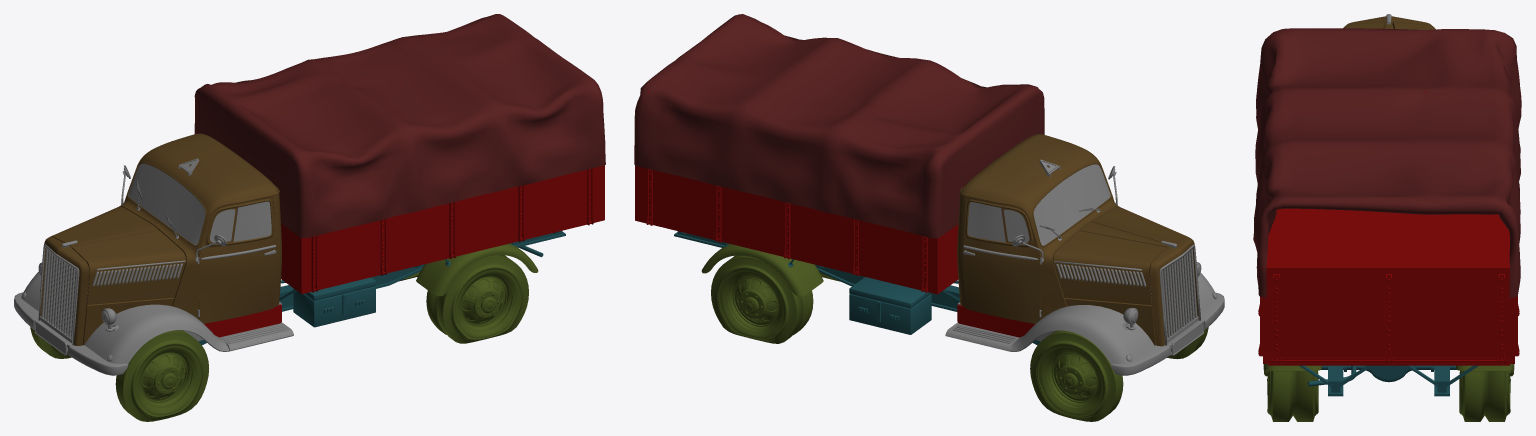
3 views of the same model, side by side, from view 1: azimuth 30°, elevation 25°; view 2: azimuth 150°, elevation 25°; view 3: azimuth 270°, elevation 25° (orthographic). The views are drawn at different scales.
Visible parts, largest first — view 1: blitz128Opel_low, blitz23Opel_low, blitz00Opel_low, blitz48Opel_low, blitz06Opel_low, blitz05Opel_low, glass_low, blitz12Opel_low, backwheel_low, blitz140Opel_low, blitz10Opel_low, blitz17Opel_low (+7 smaller); view 2: blitz128Opel_low, blitz23Opel_low, blitz00Opel_low, blitz48Opel_low, blitz06Opel_low, blitz05Opel_low, glass_low, blitz12Opel_low, backwheel_low, blitz141Opel_low, blitz10Opel_low, blitz17Opel_low (+7 smaller); view 3: blitz128Opel_low, blitz23Opel_low, blitz24Opel_low, backwheel_low, blitz17Opel_low, blitz44Opel_low, blitz102Opel_low, blitz04Opel_low, blitz61Opel_low, blitz64Opel_low, blitz63Opel_low, blitz48Opel_low (+5 smaller).
Part boxes in pixels (box(x1,y1,x2,y2)): blitz128Opel_low: box(194, 14, 605, 237); blitz23Opel_low: box(281, 166, 601, 287); blitz00Opel_low: box(40, 133, 281, 345); blitz48Opel_low: box(51, 206, 186, 304); blitz06Opel_low: box(198, 196, 276, 323); blitz05Opel_low: box(22, 271, 293, 363); glass_low: box(128, 163, 271, 245); blitz12Opel_low: box(30, 327, 208, 421); backwheel_low: box(399, 255, 528, 343); blitz140Opel_low: box(293, 277, 375, 327); blitz10Opel_low: box(41, 248, 77, 339); blitz17Opel_low: box(281, 165, 604, 293); blitz128Opel_low: box(634, 14, 1044, 238); blitz23Opel_low: box(638, 166, 958, 288); blitz00Opel_low: box(957, 134, 1198, 346); blitz48Opel_low: box(1053, 207, 1187, 305); blitz06Opel_low: box(963, 196, 1040, 323); blitz05Opel_low: box(945, 272, 1215, 363); glass_low: box(967, 164, 1110, 245); blitz12Opel_low: box(1030, 327, 1208, 421); backwheel_low: box(711, 255, 840, 343); blitz141Opel_low: box(849, 277, 931, 334); blitz10Opel_low: box(1161, 249, 1197, 339); blitz17Opel_low: box(635, 165, 958, 294); blitz128Opel_low: box(1253, 28, 1521, 297); blitz23Opel_low: box(1268, 274, 1509, 356); blitz24Opel_low: box(1268, 208, 1509, 265); backwheel_low: box(1267, 370, 1510, 421); blitz17Opel_low: box(1263, 247, 1514, 365); blitz44Opel_low: box(1328, 365, 1449, 396); blitz102Opel_low: box(1321, 365, 1456, 382); blitz04Opel_low: box(1265, 364, 1512, 371); blitz61Opel_low: box(1272, 274, 1280, 364); blitz64Opel_low: box(1497, 274, 1505, 364); blitz63Opel_low: box(1384, 274, 1393, 364); blitz48Opel_low: box(1343, 22, 1435, 29).
Bounding box in the file's own units: 1950 × 868 × 759.
